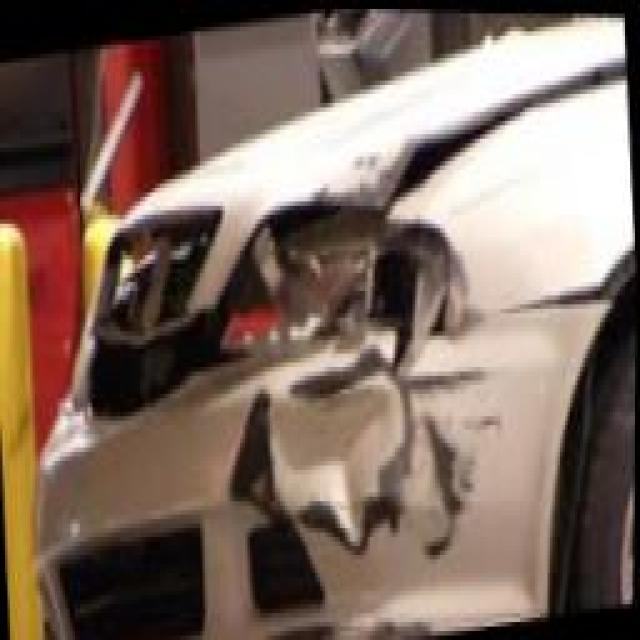Bonnet: (111, 12, 626, 215)
Bumper: (38, 292, 608, 640)
Light: (206, 208, 452, 354)
